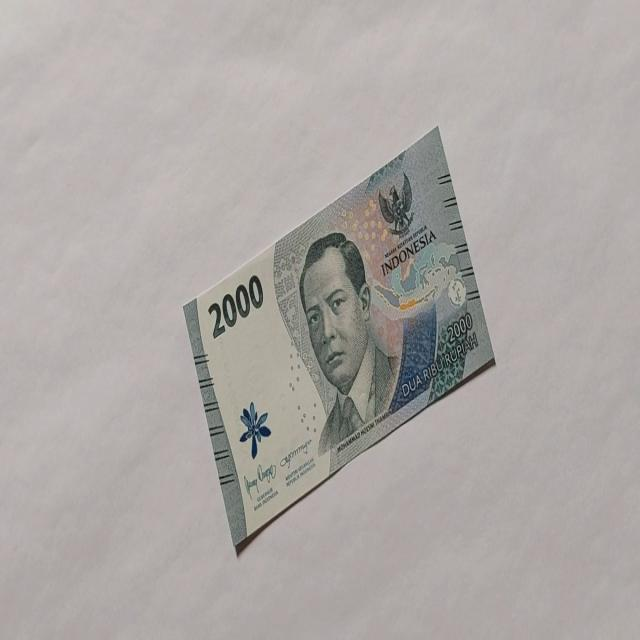dua ribu rupiah: (182, 123, 496, 554), (298, 230, 400, 457), (206, 272, 264, 340)
